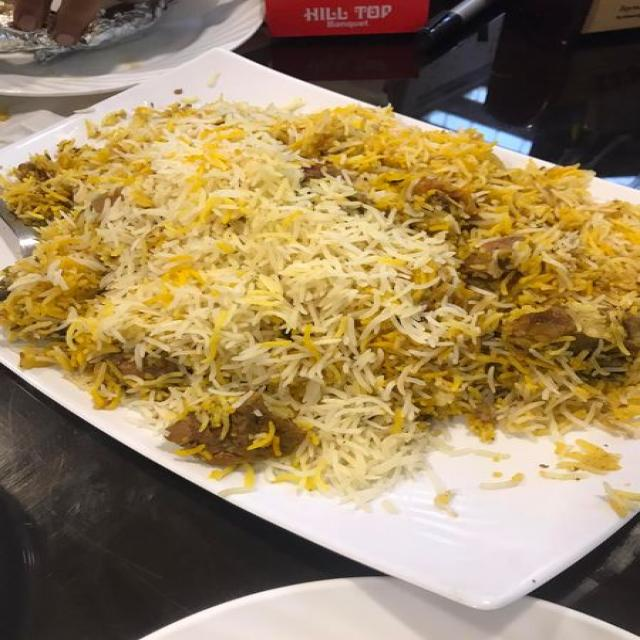Biryani: (11, 124, 634, 430)
